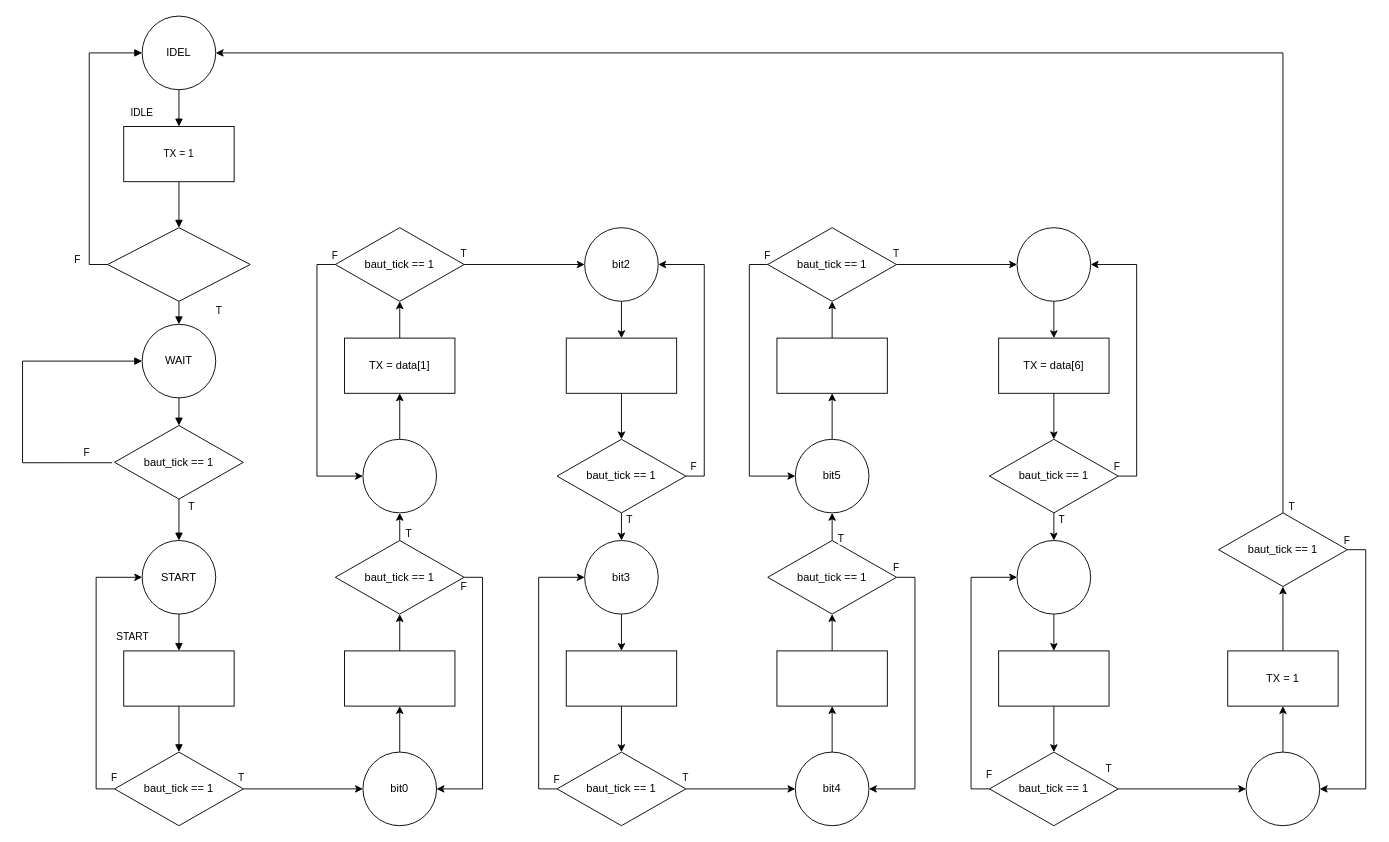
Some shapes in this 1389 by 842 pixel diagram are drawn without their labels. Here are the shapes that lost their labels. From the top down, the centre of each, then its label:
At point (178, 264): "start == 1".
At point (1053, 264): "bit6".
At point (621, 365): "TX = data[2]".
At point (831, 365): "TX = data[5]".
At point (399, 475): "bit1".
At point (1053, 577): "bit7".
At point (178, 678): "TX = 0".
At point (399, 678): "TX = data[0]".
At point (621, 678): "TX = data[3]".
At point (831, 678): "TX = data[4]".
At point (1053, 678): "TX = data[7]".
At point (1282, 788): "STOP".
